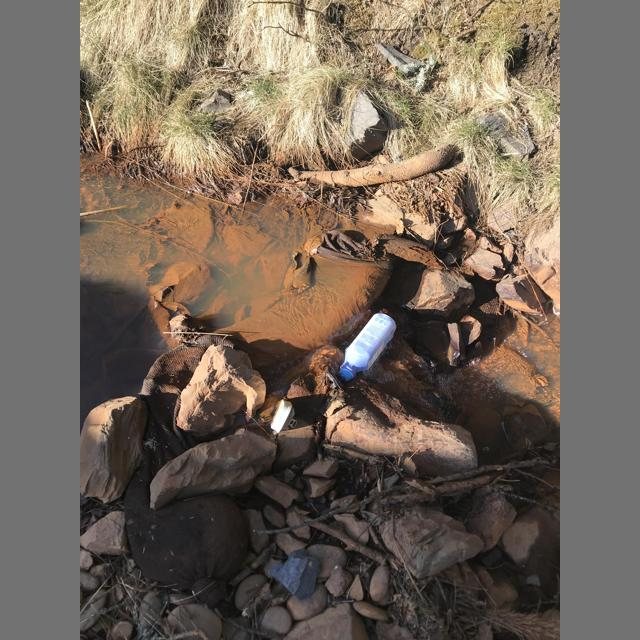litter: (339, 313, 397, 382), (270, 400, 297, 433), (339, 370, 352, 382), (289, 419, 297, 428)
